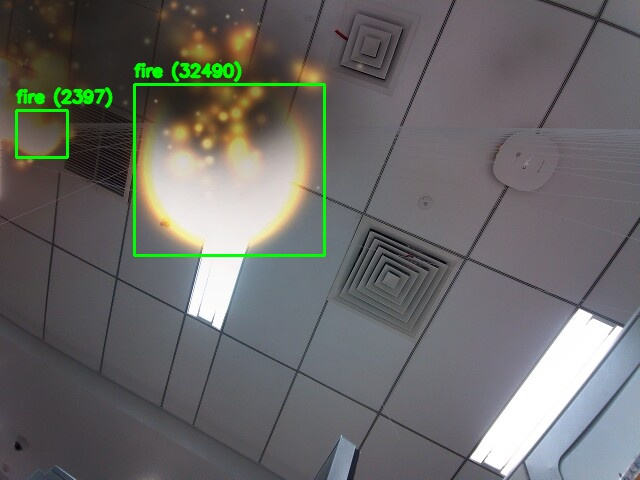fire: (134, 84, 324, 255), (16, 110, 67, 157)
